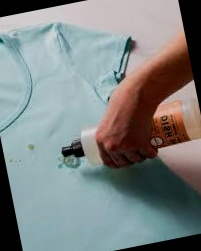oil: (56, 155, 80, 172), (8, 157, 23, 169), (26, 138, 39, 151)
